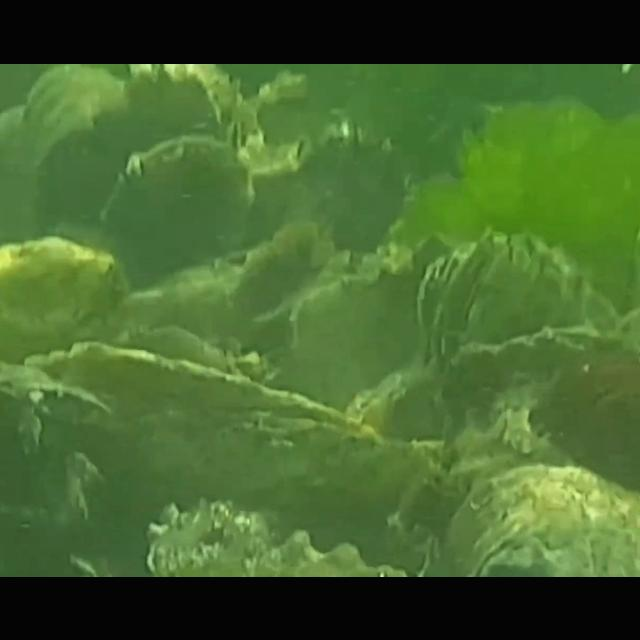Oyster-Closed: (23, 340, 377, 502), (343, 323, 632, 452), (410, 225, 588, 365), (103, 132, 255, 288), (444, 460, 640, 576), (142, 494, 412, 576), (285, 258, 425, 406), (284, 124, 406, 266), (0, 234, 128, 362), (0, 361, 108, 447)
